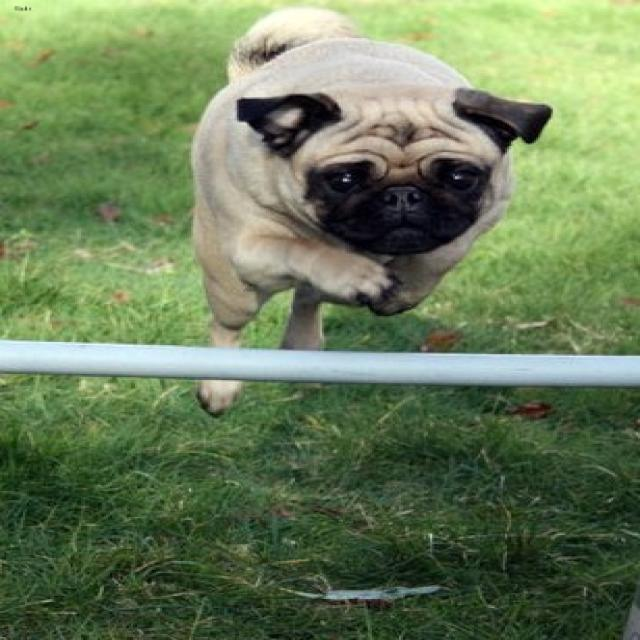dog-pug: (175, 2, 557, 365)
